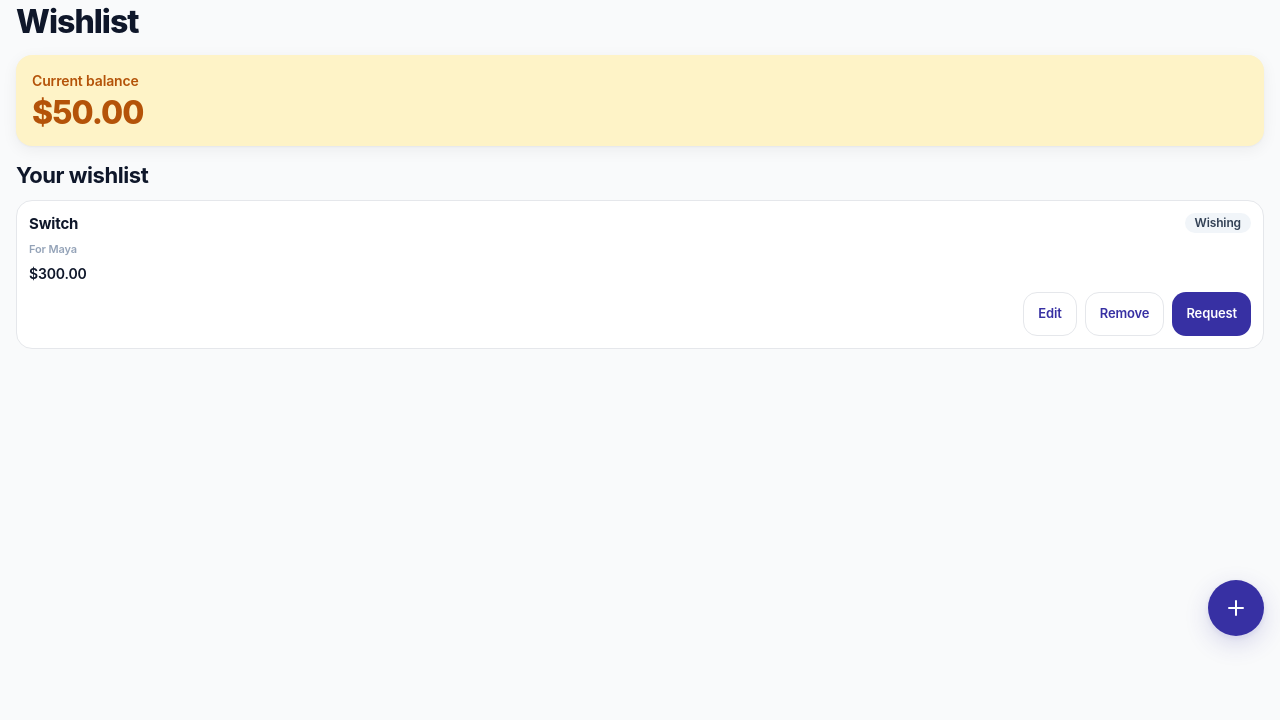
Test: WishlistScreen — edit flow › opens an edit sheet pre-filled with the current title and cost (as dollars)
Click the button with aria-label "edit Switch" at [1050, 314], box 1023,292 -> 1077,336
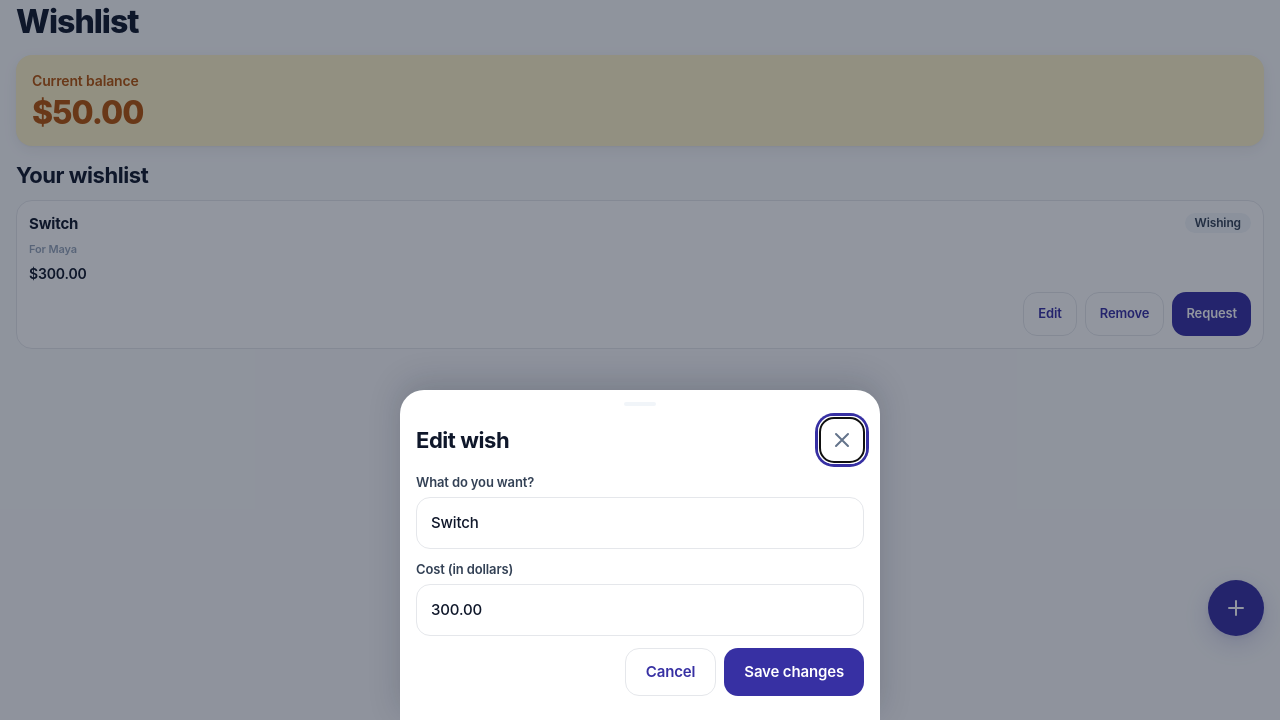
Expected: the field showing "Switch" is shown, 431,512 -> 849,534
Expected: the field showing "300.00" is shown, 431,599 -> 849,621
